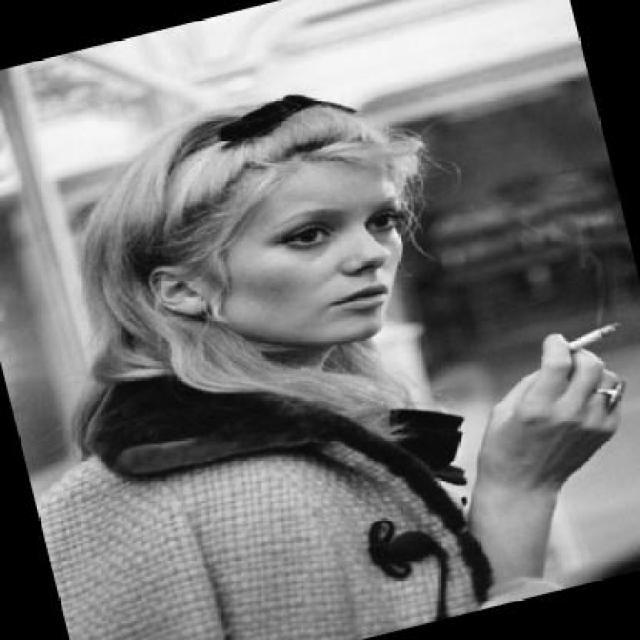smoke: (556, 316, 632, 358)
